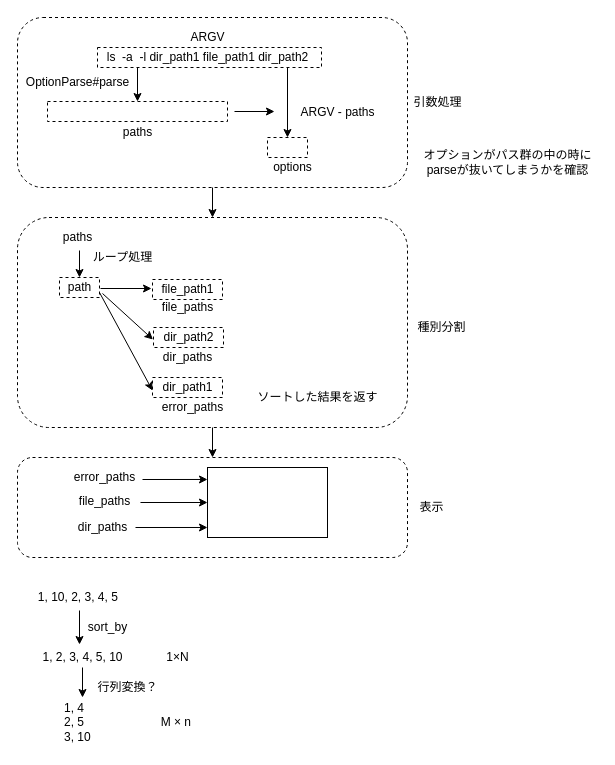
The diagram is 615 pixels wide and 765 high, and some of its shapes have lost their labels. The shapes that lost their labels are listed below. From the top down, each one's centre as x and y in pixels, then its label:
point 137,111: dir_path1 file_path1 dir_path2
point 287,147: -a -l
point 267,502: dispayメソッド
